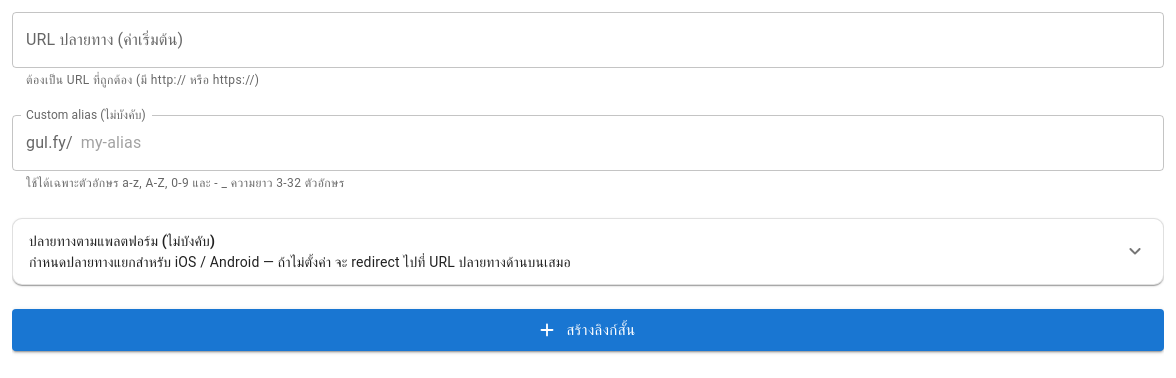
it: LinkForm › rejects submission when originalUrl is empty
What coordinates should you click on to do the following:
click the button "สร้างลิงก์สั้น"
I would click on:
 (588, 330)
Its box is [12, 309, 1164, 351].
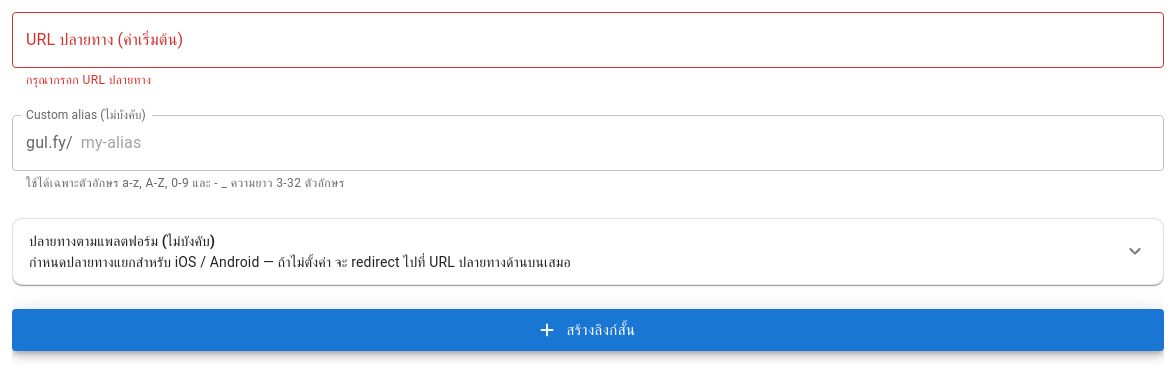
Now the text "กรุณากรอก URL ปลายทาง" is shown, box [26, 73, 151, 87]
